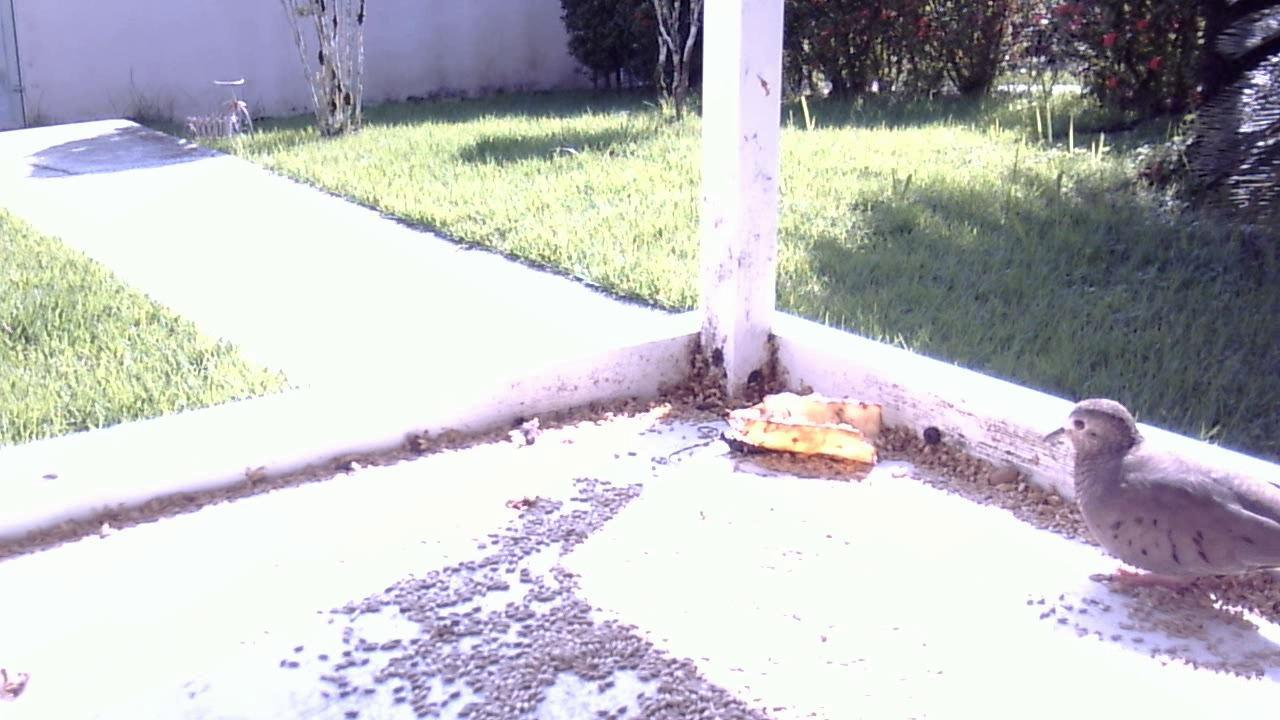rolinha: (1034, 392, 1280, 608)
